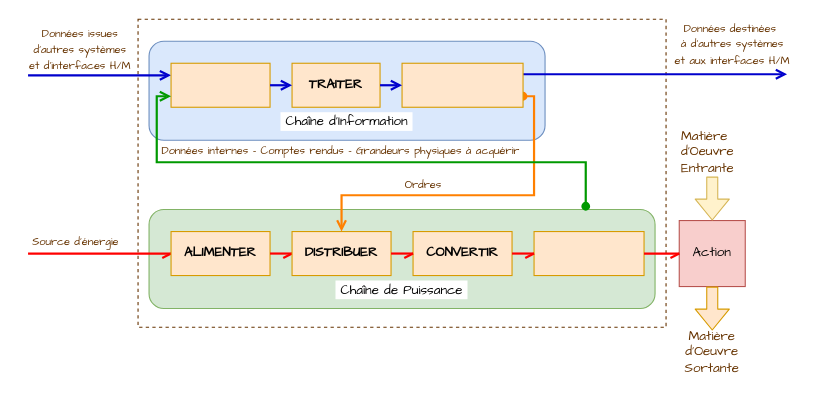
Image size: 815x395. Some labels were removed from this diagram. The centre of each missing label's shape, as x and y in pixels:
"ACQUERIR" belongs at [220,84].
"COMMUNIQUER" belongs at [462,84].
"TRANSMETTRE" belongs at [588,253].
